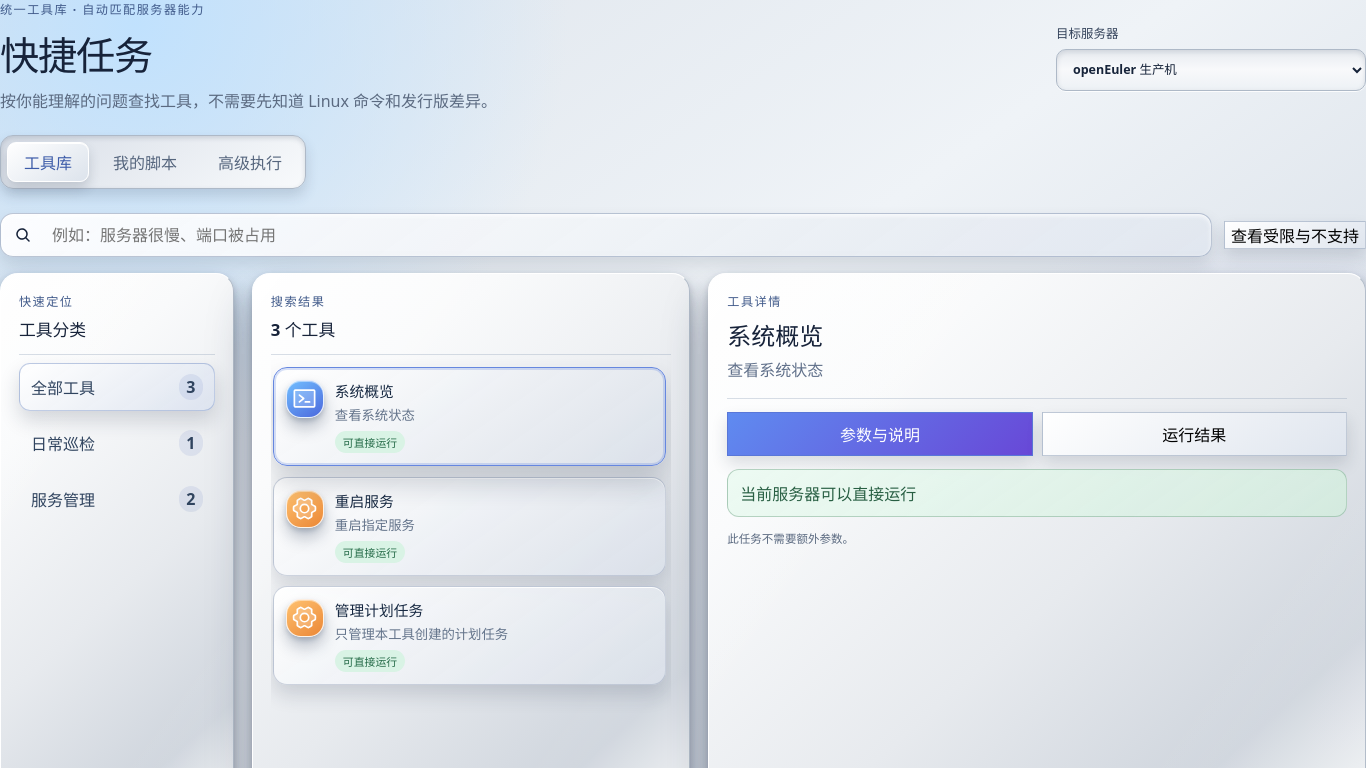
Test case: TaskPage › selects a server, loads compatible cards, and streams task output
Expected: the heading "系统概览" below "个工具" is shown, [335,381,394,401]
Click the button with aria-label "选择任务 系统概览" at (305, 399), box [273,367,666,466]
(page scrolled)
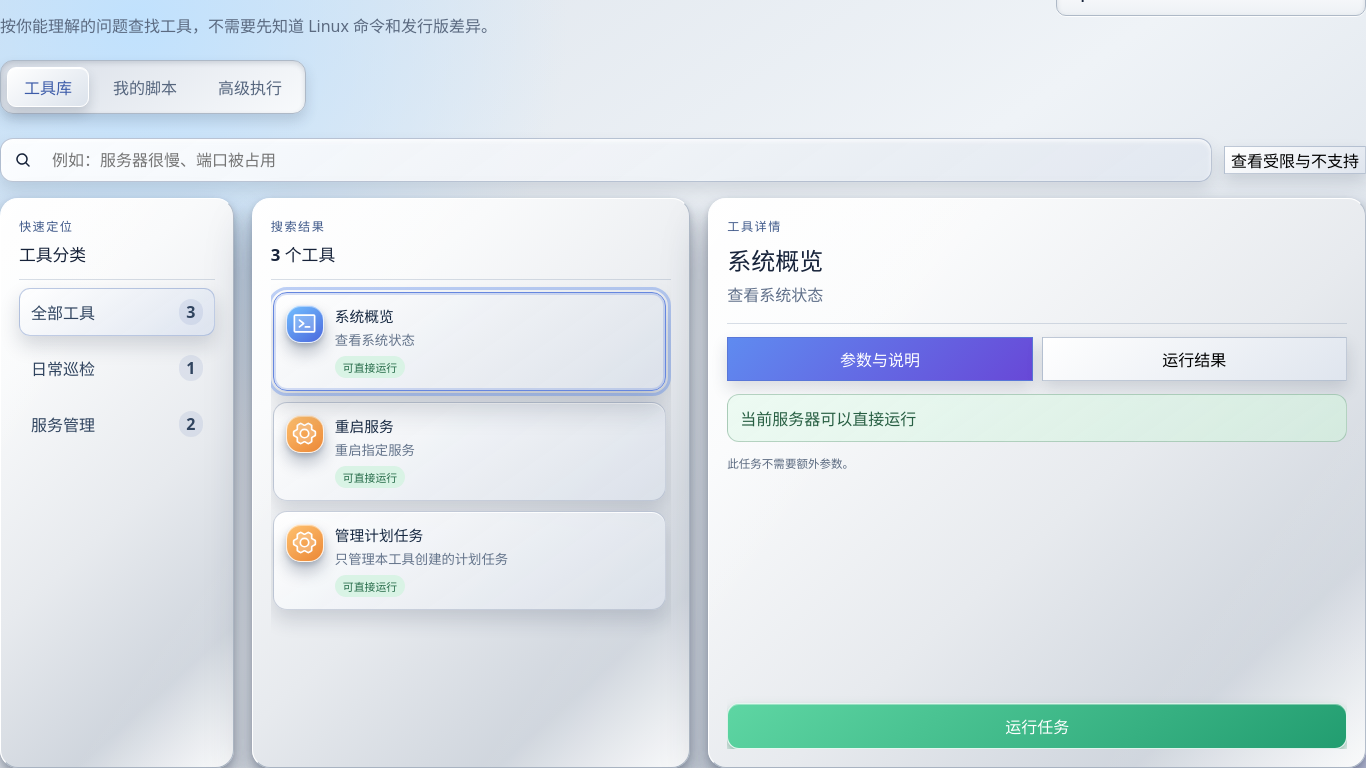
Click the button "运行任务" at (1037, 726), box [727,703,1347,749]
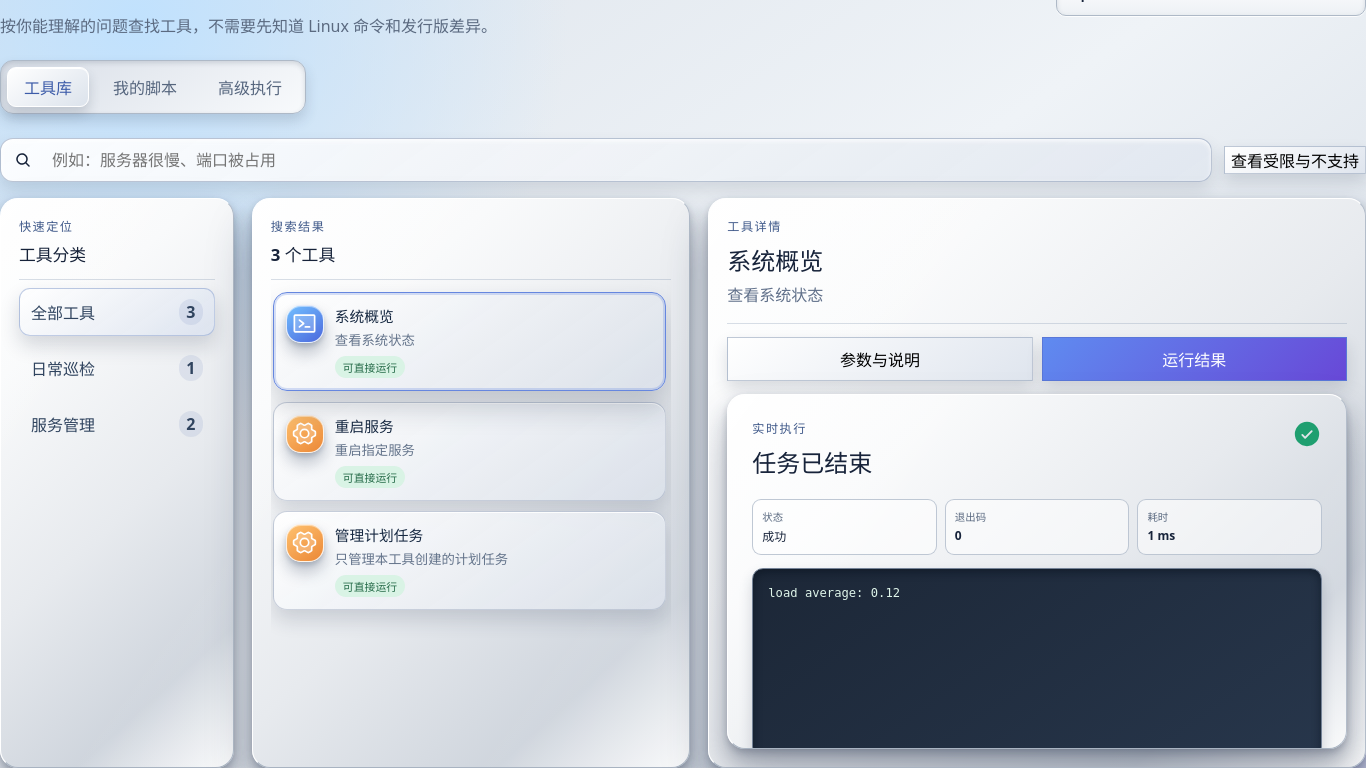
Result: the text "load average: 0.12" is shown at [752,568,1322,749]
